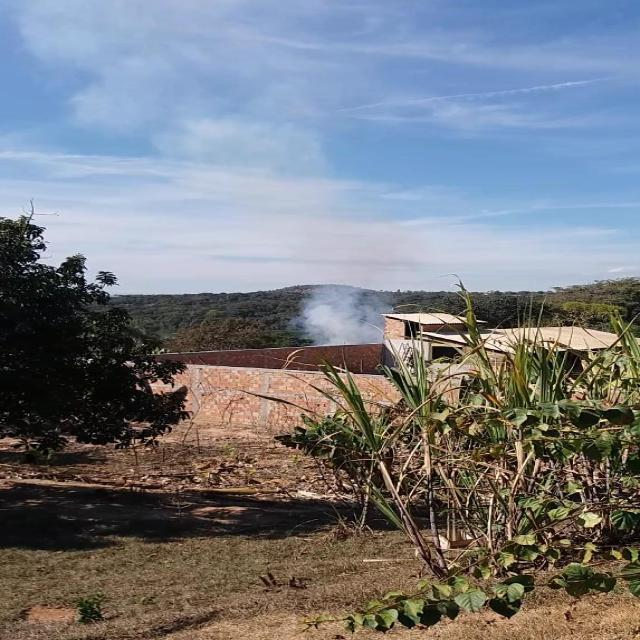Smoke: (280, 280, 392, 348)
